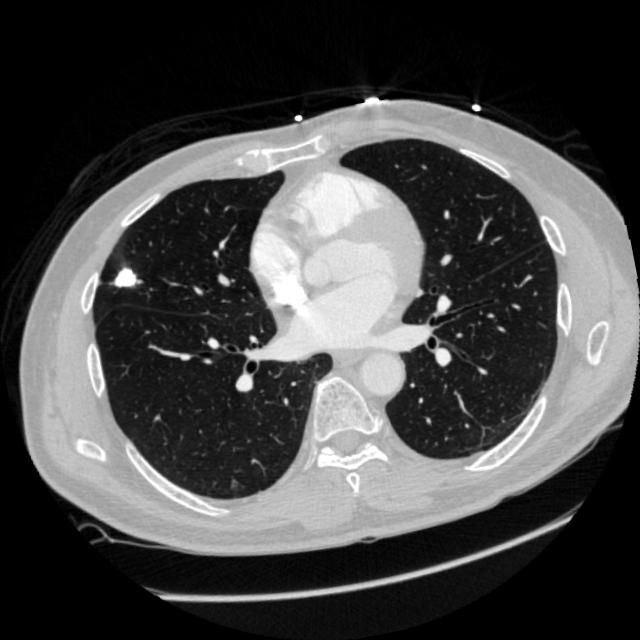nodule: (99, 254, 148, 302)
